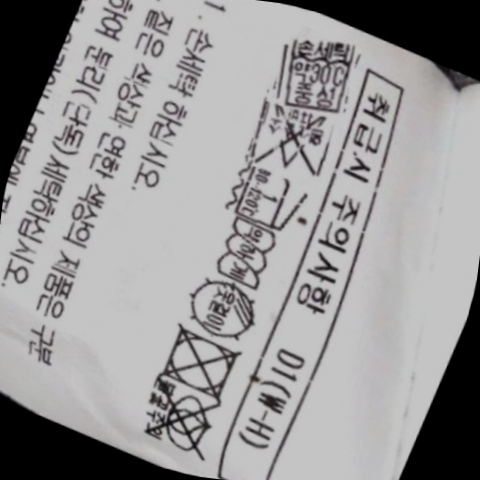DN_tumble_dry: (144, 313, 254, 410)
hand_wash: (264, 24, 370, 124)
iron_low: (223, 156, 314, 241)
line_dry_in_shade: (172, 266, 274, 352)
wring: (205, 210, 285, 298)
